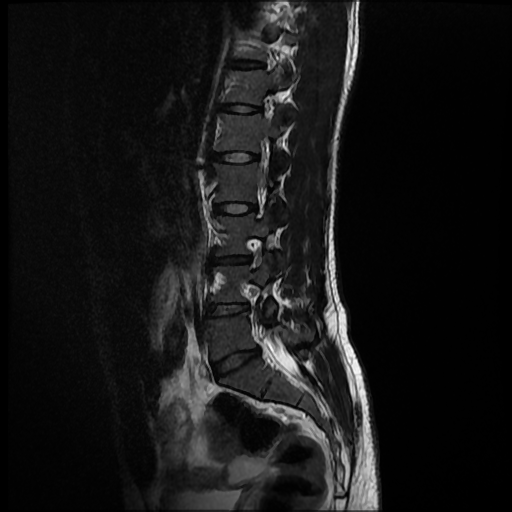RFS0: (236, 229, 269, 273)
